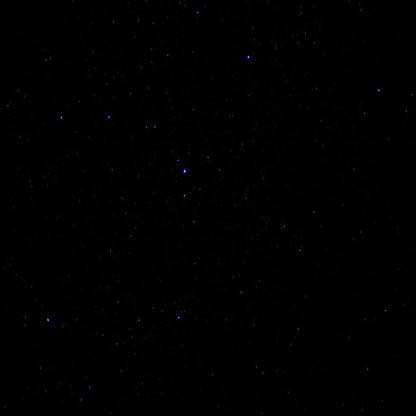Cassiopeia: (37, 306, 64, 335), (161, 301, 187, 331), (166, 155, 193, 183), (254, 138, 277, 165), (237, 47, 259, 70)
